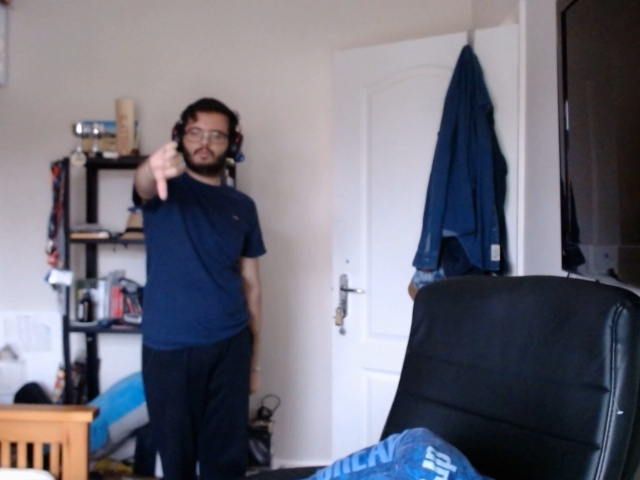Thumbs down: (146, 134, 187, 212)
